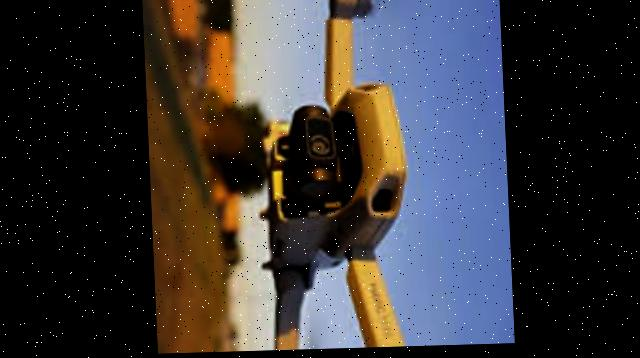drone: (236, 0, 466, 353)
